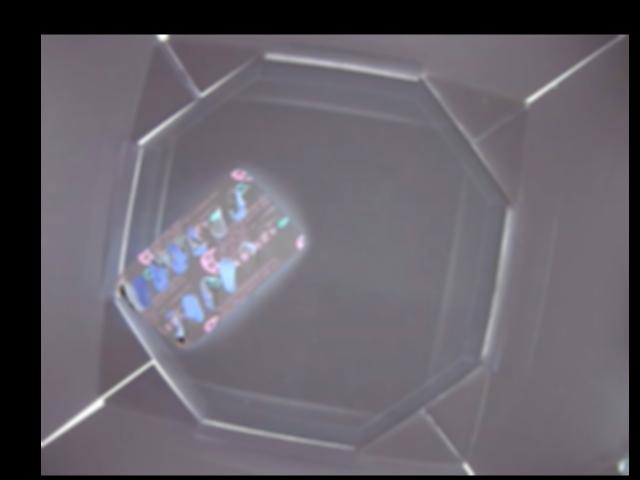Medicine: (113, 165, 307, 345)
